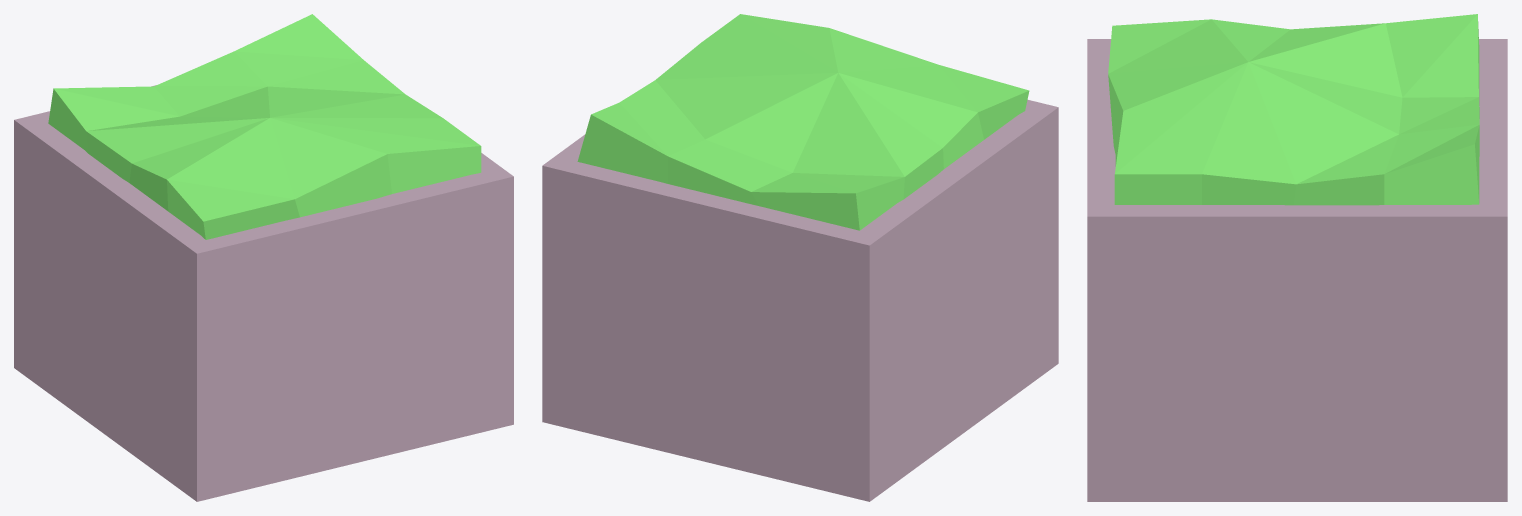
Rendered from block_1.fbx.
3 renders of one model, left to right at view 1: azimuth 30°, elevation 25°; view 2: azimuth 150°, elevation 25°; view 3: azimuth 270°, elevation 25°, orthographic. The views are drawn at different scales.
Visible parts, largest first — view 1: block_1; view 2: block_1; view 3: block_1.
Boxes of the visible parts, left/top/right/bottom form: block_1: left=14, top=14, right=513, bottom=501; block_1: left=542, top=14, right=1058, bottom=501; block_1: left=1087, top=14, right=1507, bottom=501.
Bounding box in the file's own units: 200 × 180 × 200.
